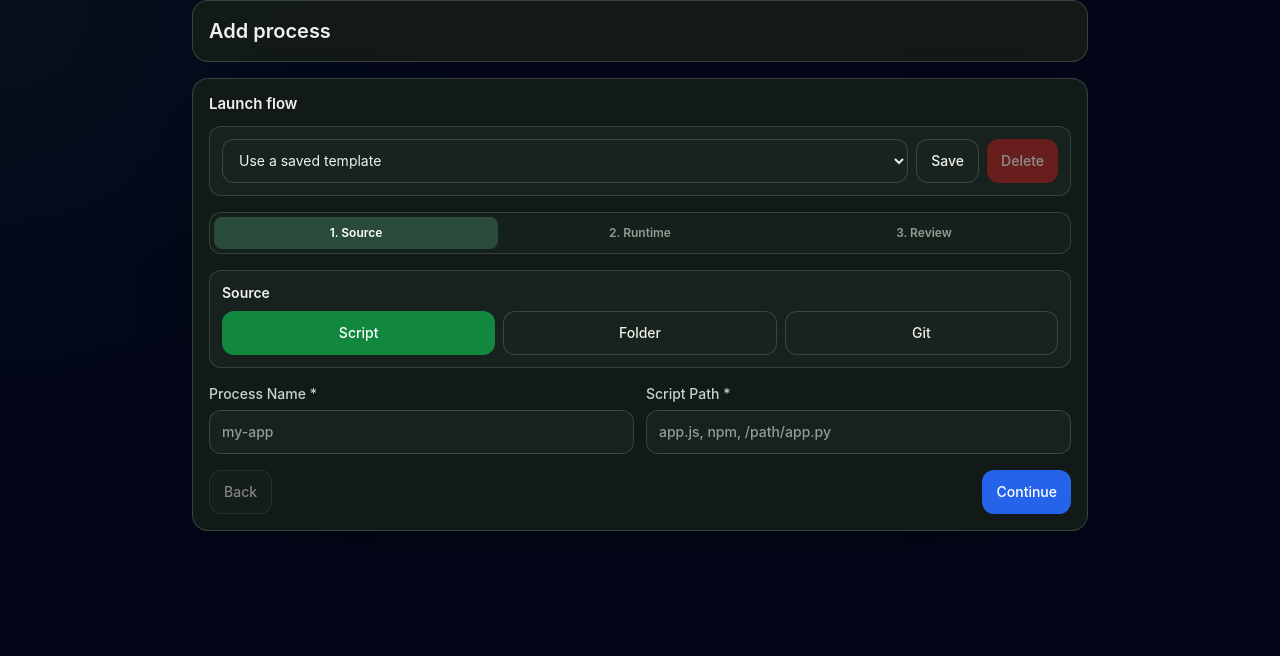
Test: CreateProcess › auto-fills a relative project path for git clone mode
Click the button "Git" at [921, 333], box [785,311,1058,355]
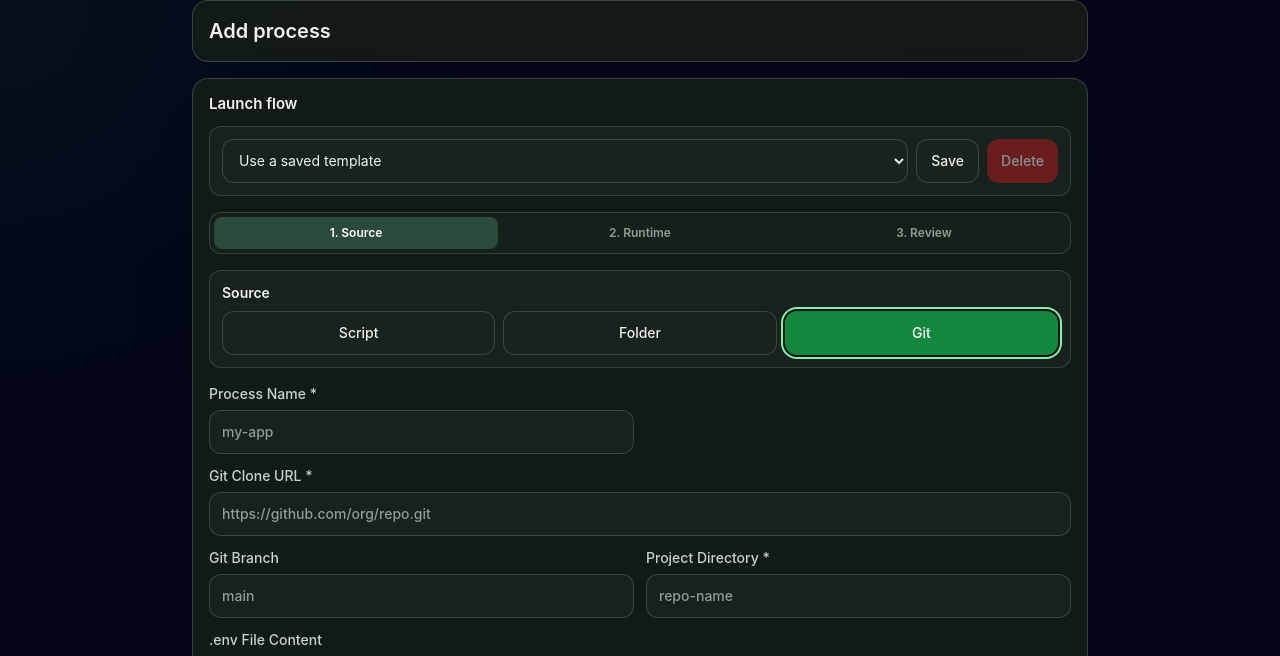
Type "https://github.com/acme/sample-app.git" into the field labelled "Git Clone URL *" at [640, 514], box [209,492,1071,536]
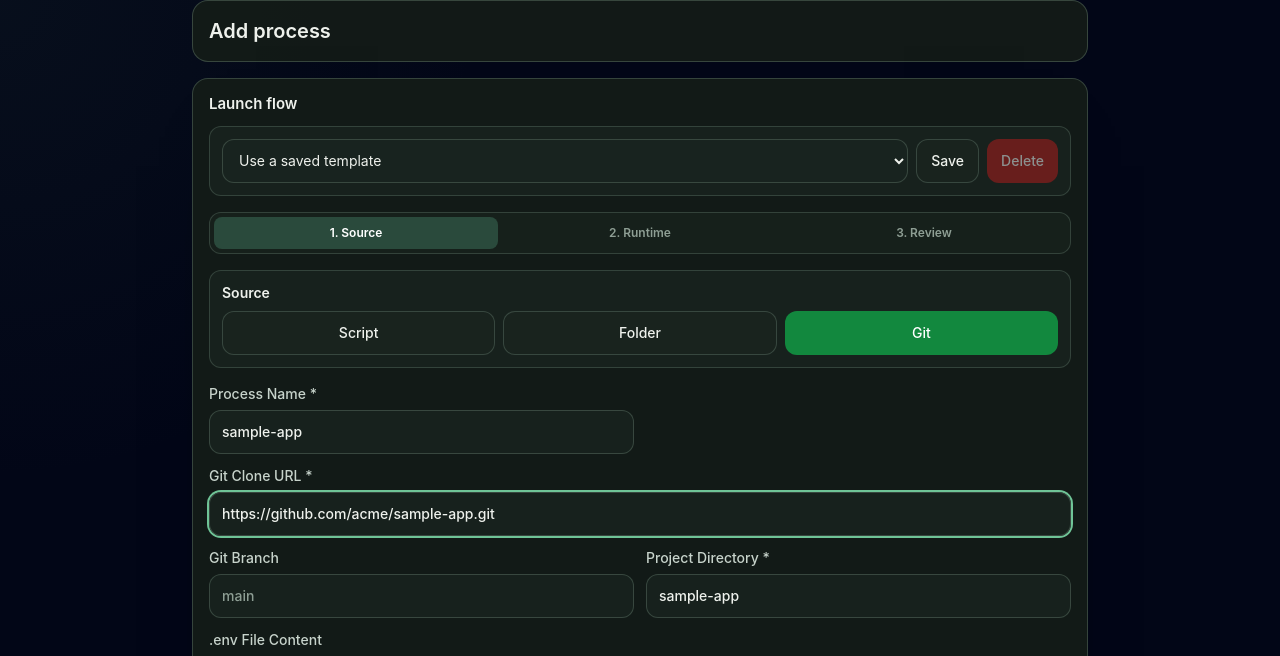
Expected: the field labelled "Process Name *" holds "sample-app", [209,410,634,454]
Expected: the field labelled "Project Directory *" holds "sample-app", [646,574,1071,618]
